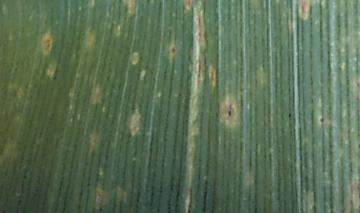tarspot: (319, 115, 325, 123), (171, 45, 176, 54), (227, 110, 233, 116), (287, 112, 292, 119)
